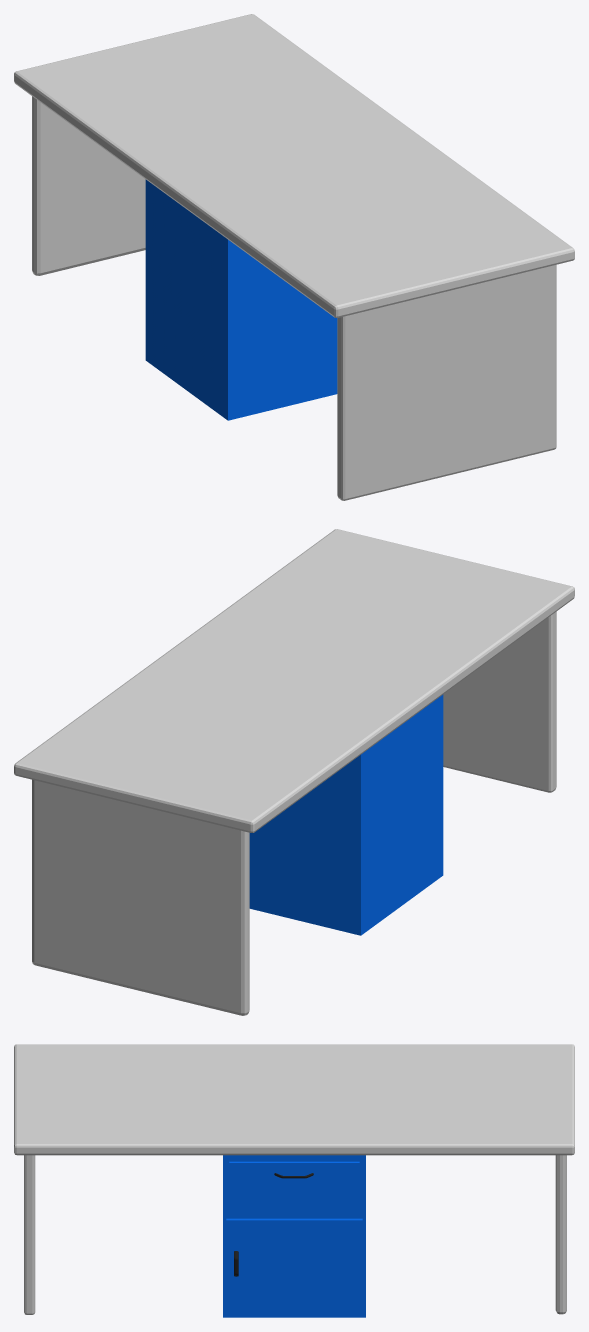
Rendered from centre table.fbx.
The picture shows the model from 3 angles, top to bottom: view 1: azimuth 30°, elevation 25°; view 2: azimuth 150°, elevation 25°; view 3: azimuth 270°, elevation 25°; orthographic projection. The views are drawn at different scales.
Parts seen in each view (by area): view 1: Cube.007; view 2: Cube.007; view 3: Cube.007.
Part boxes in pixels (x1,y1,x2,y2): Cube.007: [14, 14, 574, 500]; Cube.007: [14, 529, 574, 1015]; Cube.007: [14, 1044, 574, 1317].
Bounding box in the file's own units: 184 × 150 × 428.
